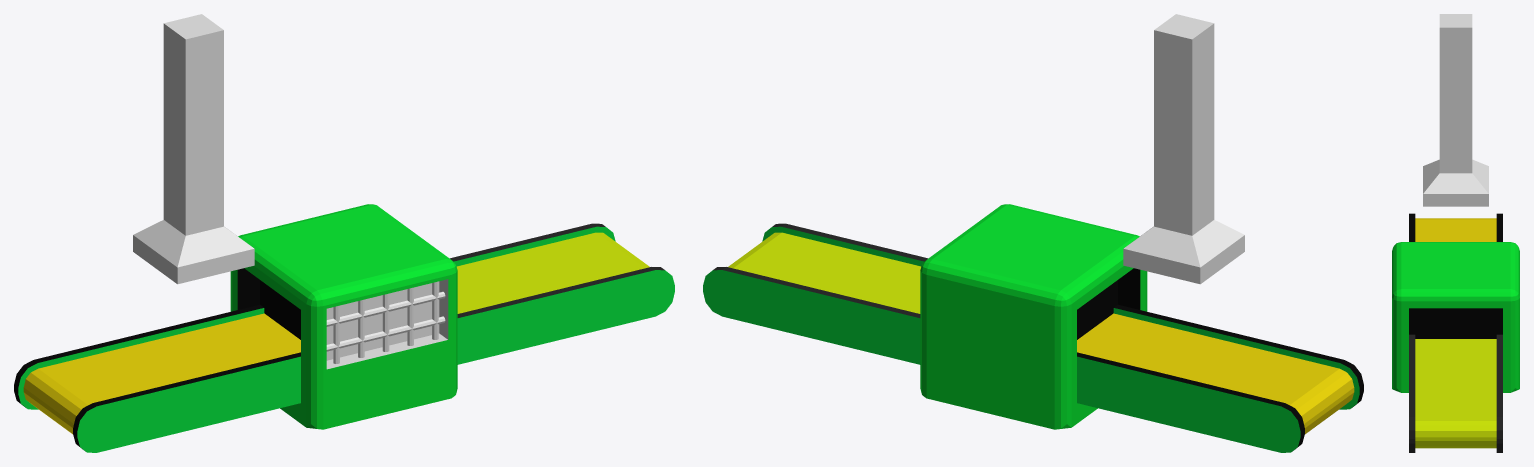
Rendered from furnacee.fbx.
The picture shows the model from 3 angles, left to right: view 1: azimuth 30°, elevation 25°; view 2: azimuth 150°, elevation 25°; view 3: azimuth 270°, elevation 25°; orthographic projection. The views are drawn at different scales.
Parts seen in each view (by area): view 1: Furnace, Press, OUTline, INline, FurnaceWindow, FurnaceOUT, FurnaceIN; view 2: Furnace, Press, OUTline, INline, FurnaceOUT, FurnaceIN; view 3: Furnace, INline, Press, OUTline, FurnaceIN, FurnaceOUT.
Boxes of the visible parts, x1,y1,x2,y2 form: Furnace: (18,204,674,452); Press: (133,14,254,284); OUTline: (23,313,300,434); INline: (457,232,649,313); FurnaceWindow: (326,279,448,369); FurnaceOUT: (14,304,300,451); FurnaceIN: (450,223,664,317); Furnace: (703,204,1359,452); Press: (1123,14,1244,284); OUTline: (1077,313,1354,434); INline: (728,232,920,313); FurnaceOUT: (1077,304,1363,451); FurnaceIN: (713,223,927,317); Furnace: (1392,242,1519,392); INline: (1415,339,1496,448); Press: (1423,14,1488,206); OUTline: (1415,218,1496,241); FurnaceIN: (1409,334,1502,452); FurnaceOUT: (1409,213,1502,241).
Size of the model in its own units: 799 by 200 by 501.
